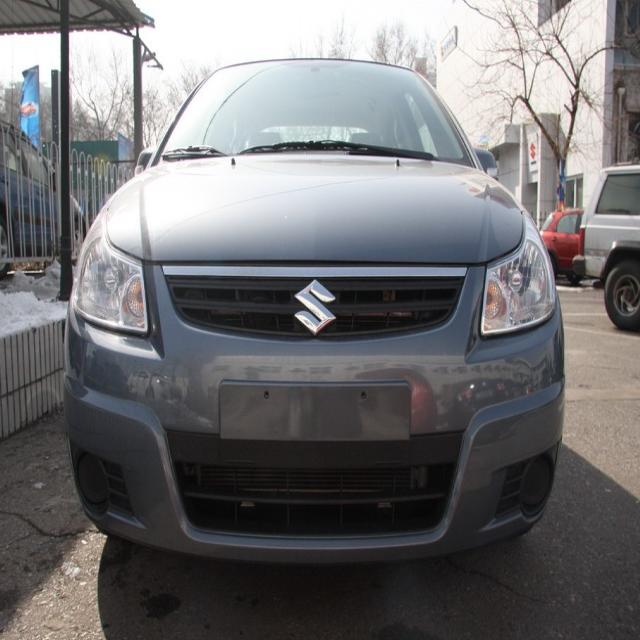front_bumper: (62, 365, 567, 567)
front_glass: (156, 57, 482, 167)
front_left_side_light: (477, 205, 558, 342)
front_left_side_mirror: (474, 144, 503, 180)
front_right_side_light: (69, 196, 155, 348)
front_right_side_mirror: (130, 145, 156, 178)
